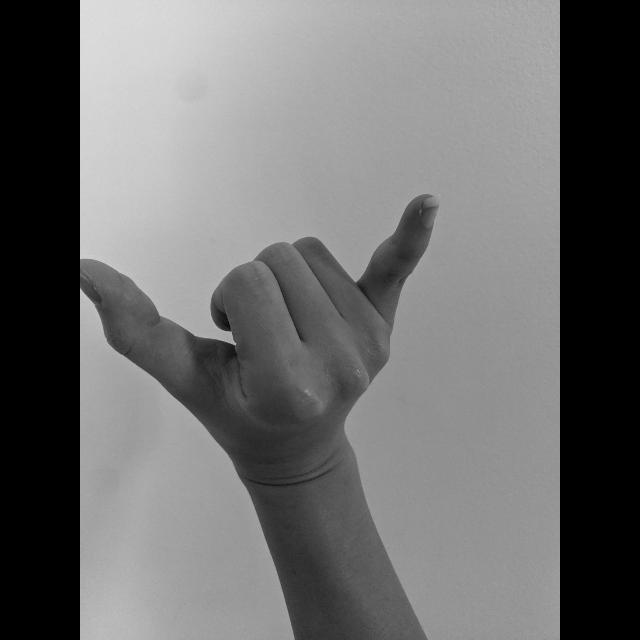Y: (80, 190, 442, 446)
